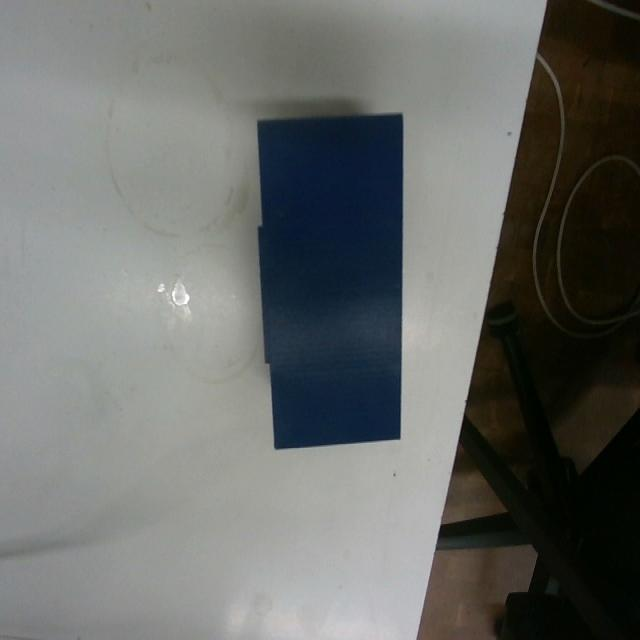Blue Cuboid: (254, 109, 404, 451)
